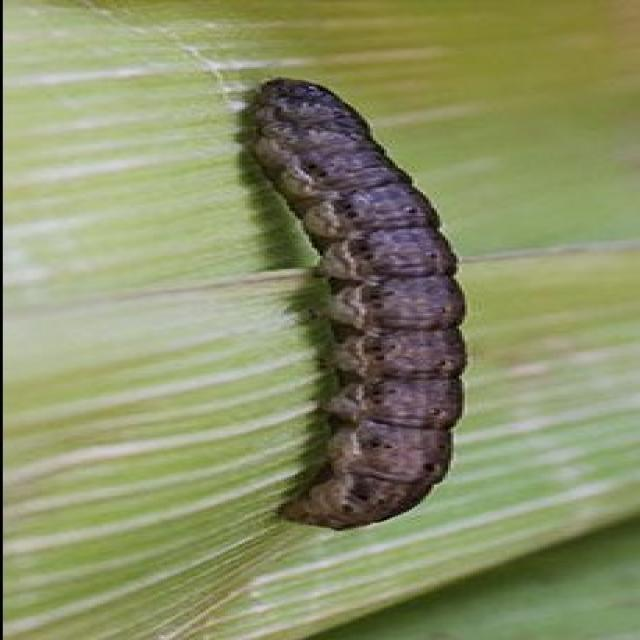black cutworm: (235, 73, 485, 547)
